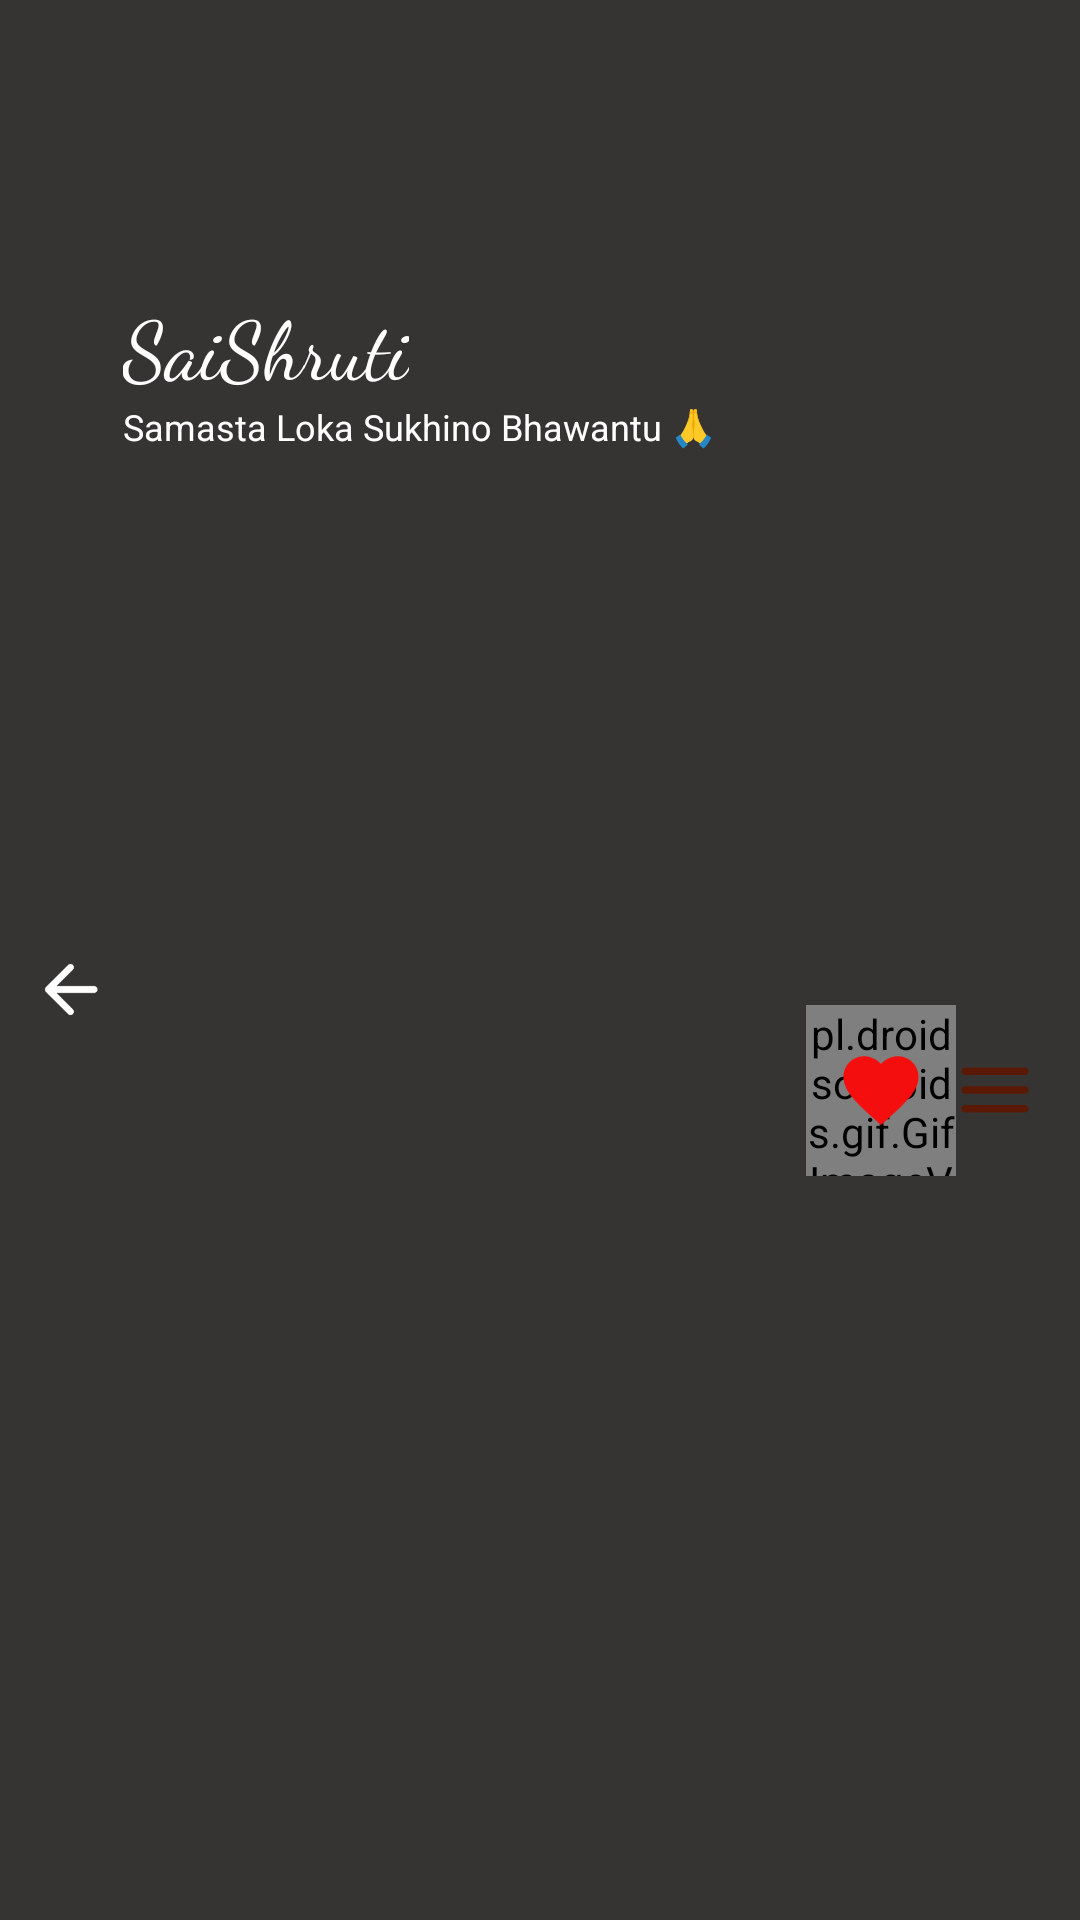

Icon bounding boxes for this 1080px×1920px phone screenshot, format (x1, y1, x2, y2):
Back Arrow Button: (45, 964, 98, 1015)
Favourite: (836, 1045, 926, 1135)
Menu Button: (961, 1068, 1029, 1112)
